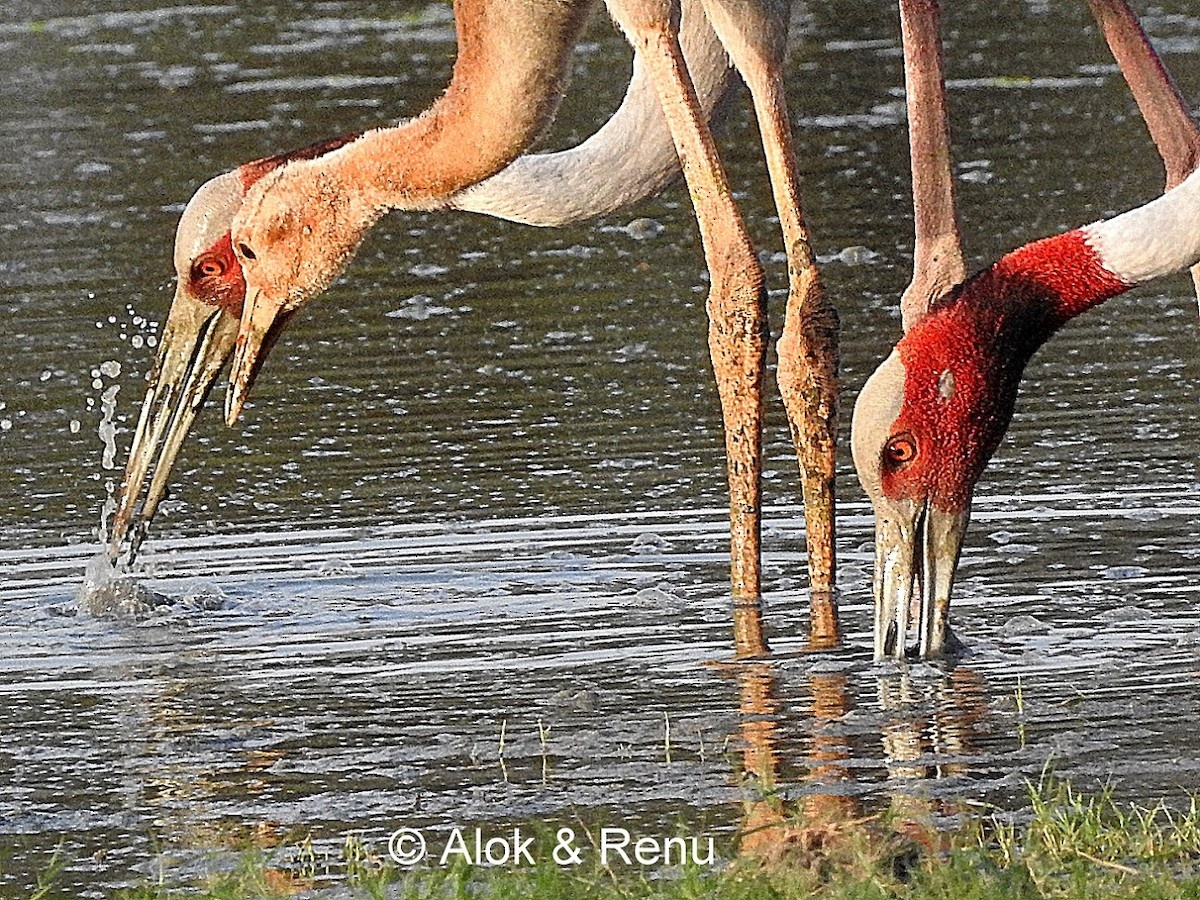crane: (833, 164, 1200, 658), (217, 1, 592, 415), (85, 121, 224, 573)
